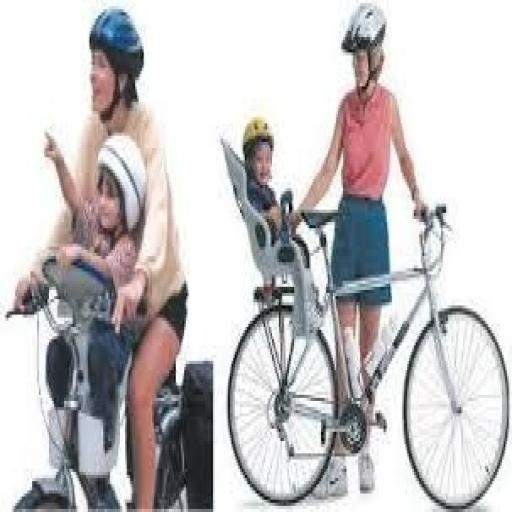cycling: (12, 6, 191, 509), (287, 3, 431, 500)
